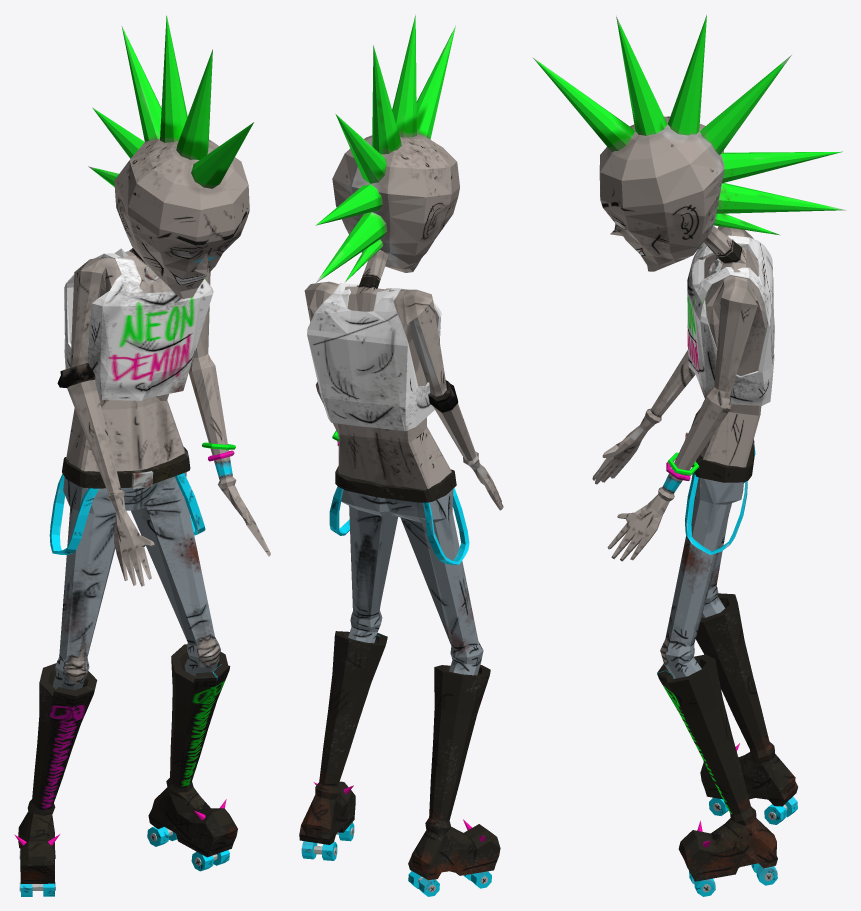
File: punkAnimation_000052.obj
The picture shows the model from 3 angles, left to right: view 1: azimuth 30°, elevation 25°; view 2: azimuth 150°, elevation 25°; view 3: azimuth 270°, elevation 25°; orthographic projection. The views are drawn at different scales.
Visible parts, largest first — view 1: Cube.004_Cube.003; view 2: Cube.004_Cube.003; view 3: Cube.004_Cube.003.
Part boxes in pixels (x1,y1,x2,y2): Cube.004_Cube.003: [14, 15, 270, 896]; Cube.004_Cube.003: [299, 15, 503, 896]; Cube.004_Cube.003: [532, 15, 846, 896].
Bounding box in the file's own units: 1.83 × 7.39 × 2.46.
